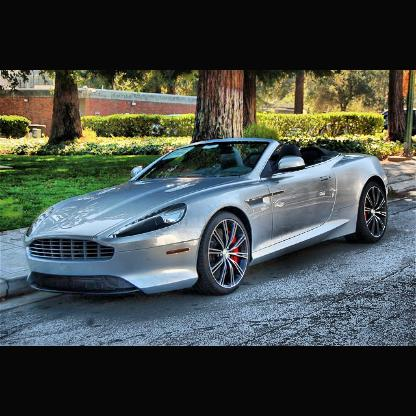Aston Martin Virage Convertible 2012: (24, 139, 389, 298)
